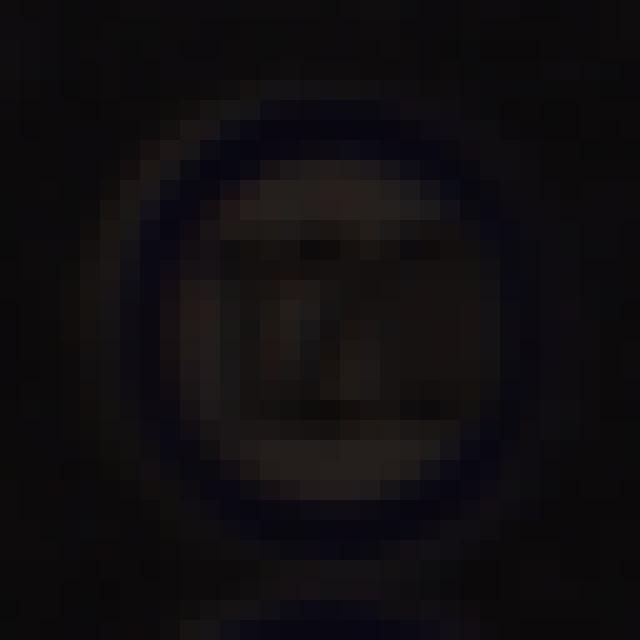SPEED LIMIT 120: (136, 132, 552, 534)
